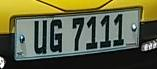1: (98, 13, 113, 49), (110, 13, 125, 48), (85, 14, 99, 51)
7: (68, 16, 87, 54)
G: (49, 17, 65, 55)
U: (31, 19, 48, 56)
